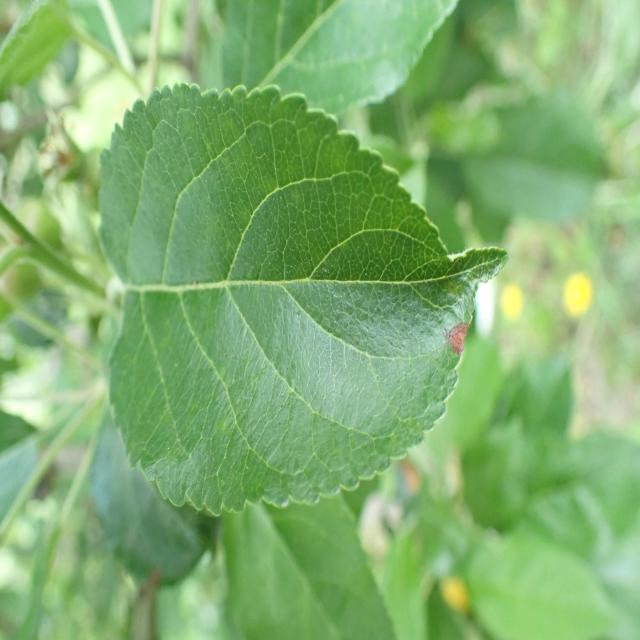Black Rot: (444, 298, 479, 364)
